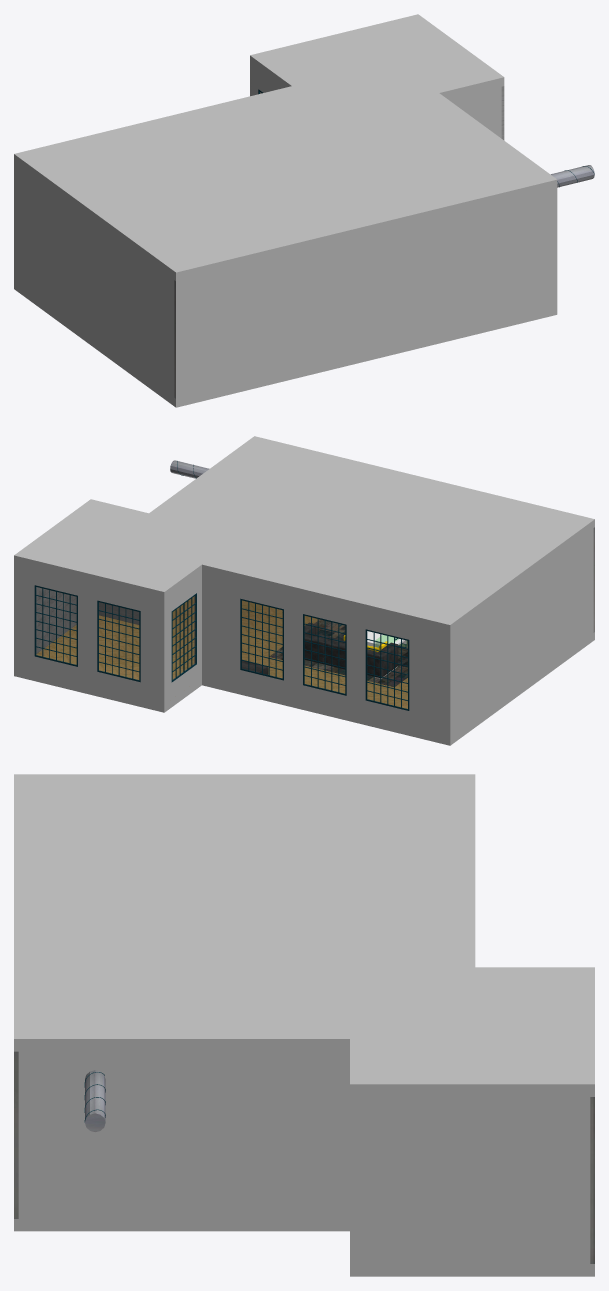
The model's file is new_two.fbx.
3 renders of one model, top to bottom at view 1: azimuth 30°, elevation 25°; view 2: azimuth 150°, elevation 25°; view 3: azimuth 270°, elevation 25°, orthographic. The views are drawn at different scales.
Visible parts, largest first — view 1: Minimum01; view 2: Minimum01; view 3: Minimum01.
Part boxes in pixels (left/top/right/bottom): Minimum01: left=14, top=14, right=594, bottom=407; Minimum01: left=14, top=436, right=594, bottom=745; Minimum01: left=14, top=774, right=594, bottom=1276.
Size of the model in its own units: 6259 by 1811 by 4959.
